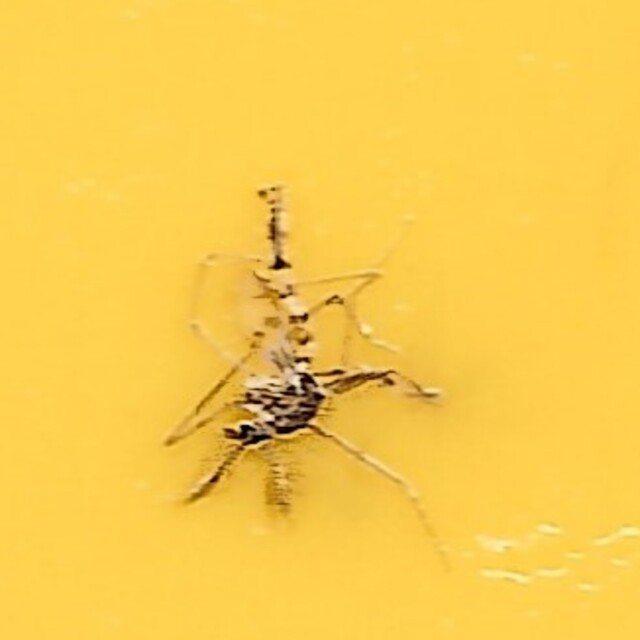Nematocera: (196, 173, 444, 467)
